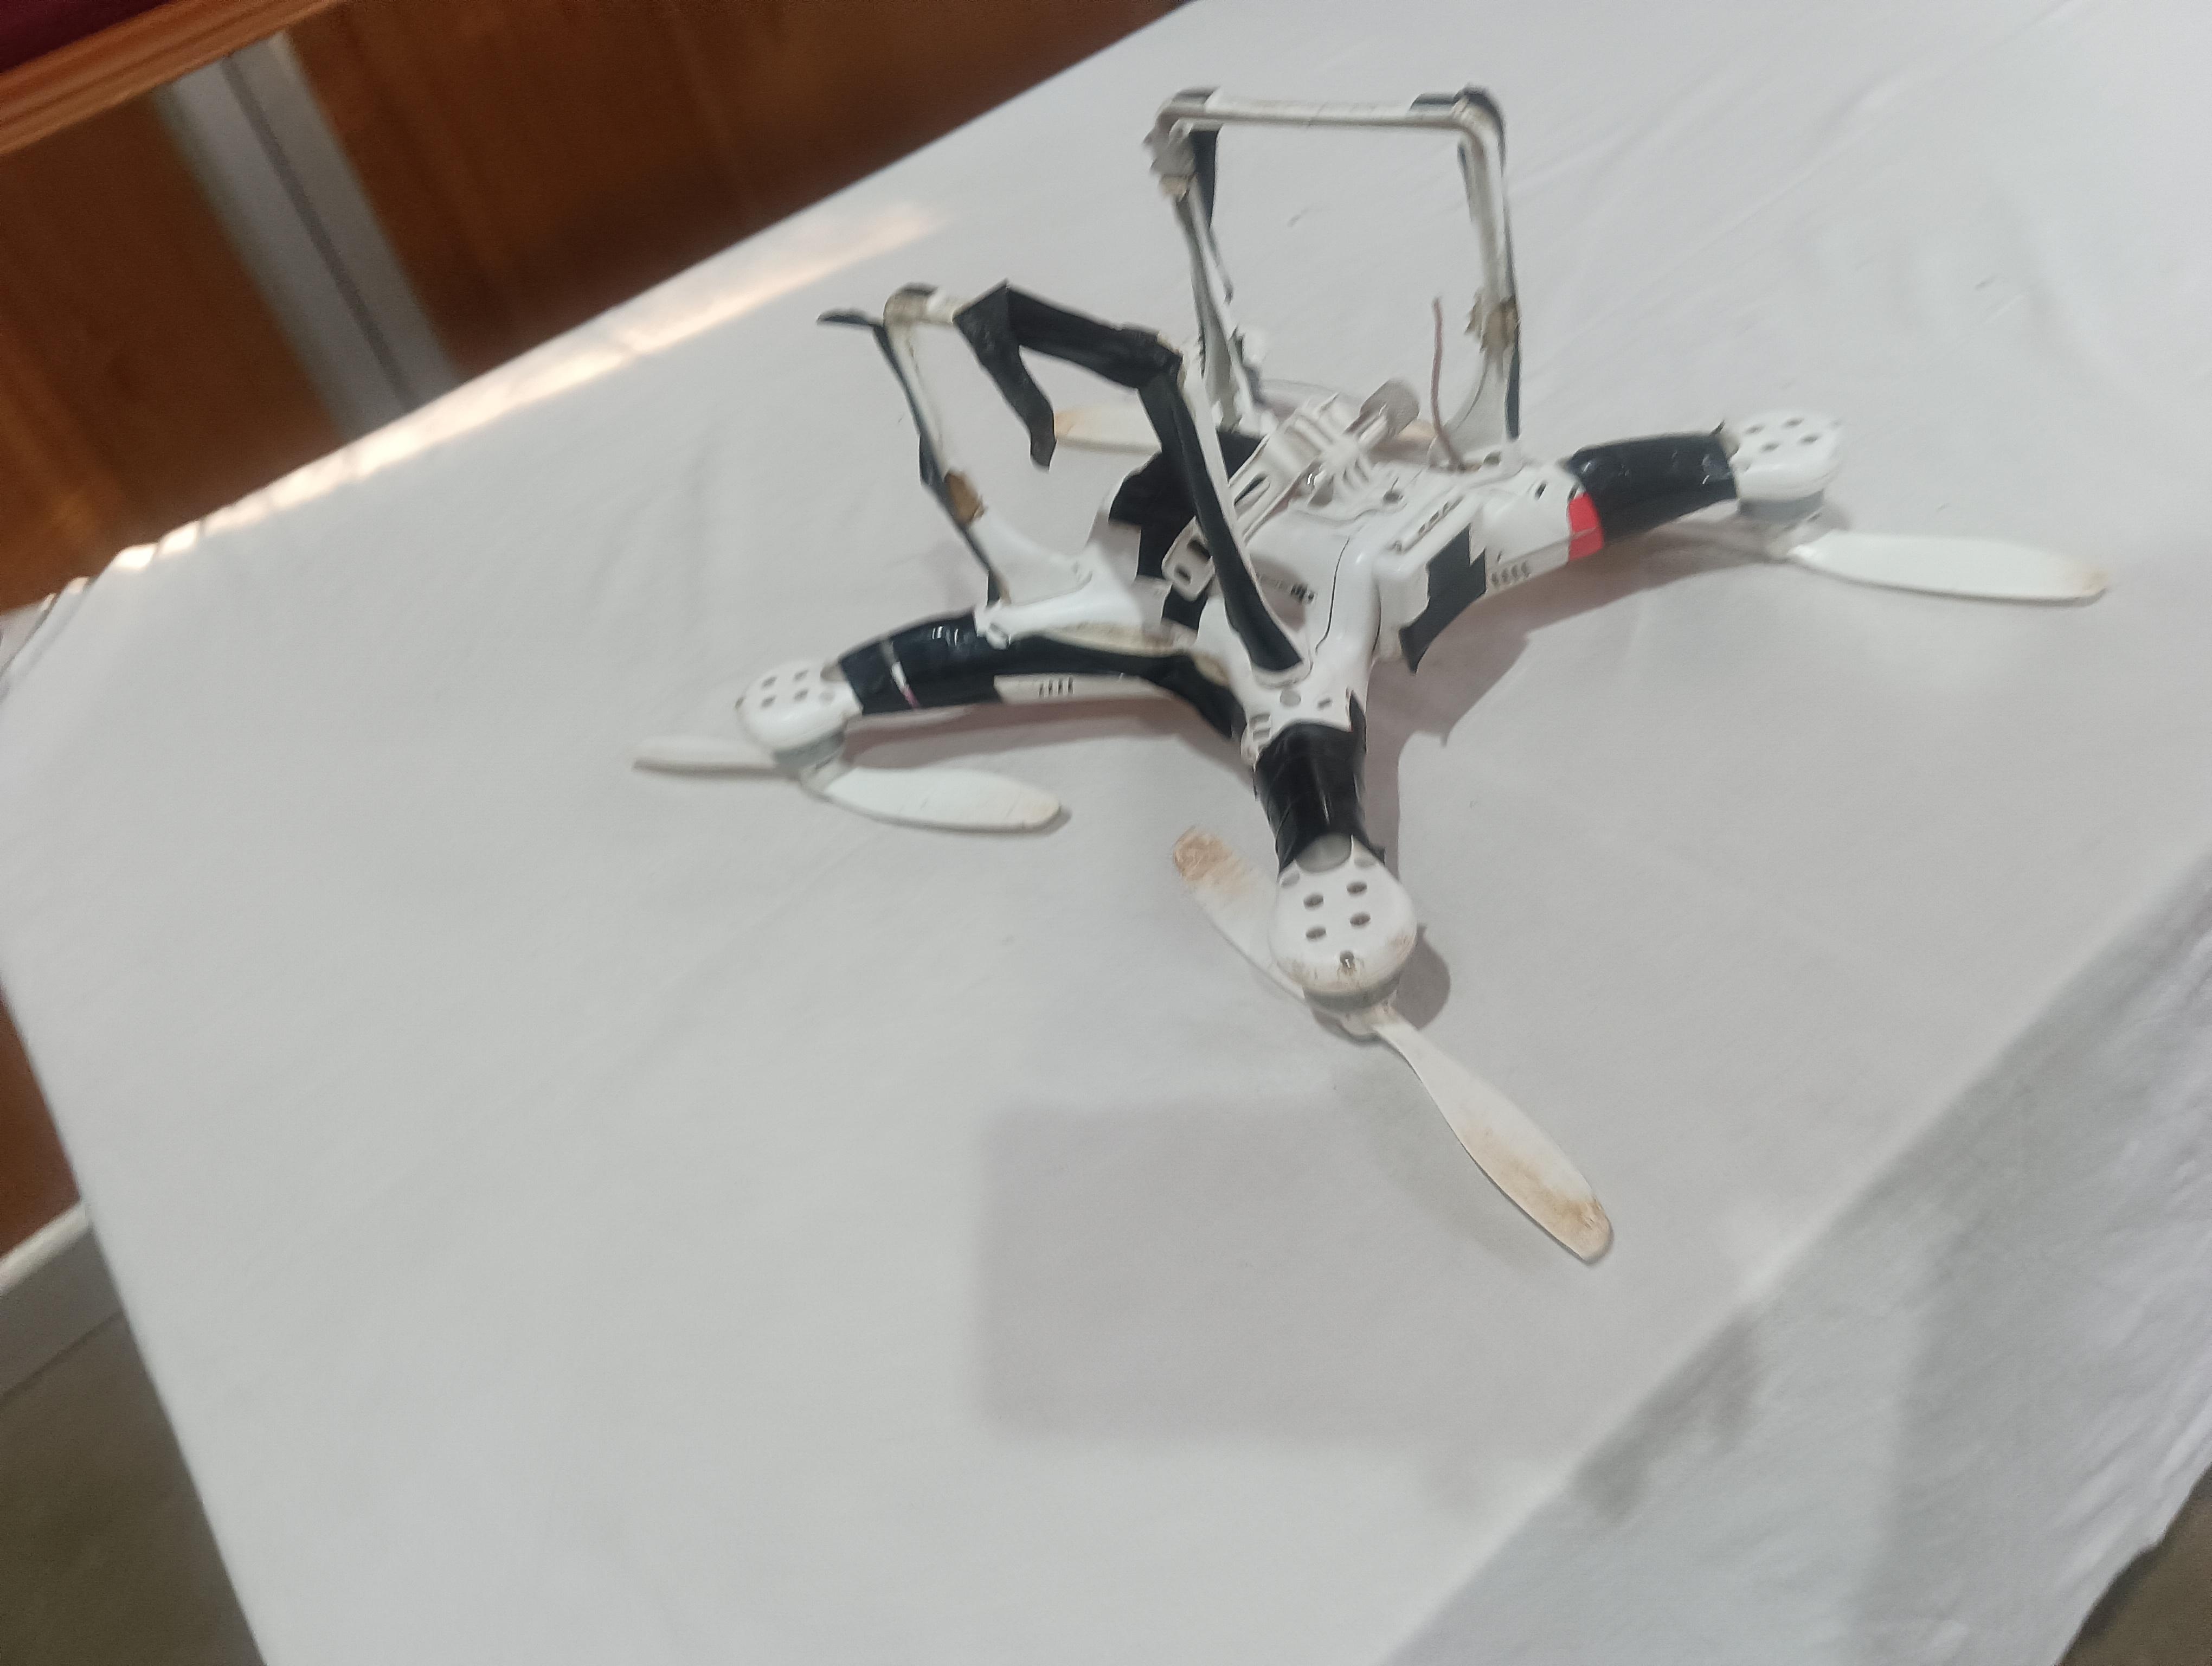drone: (722, 51, 1904, 1061)
